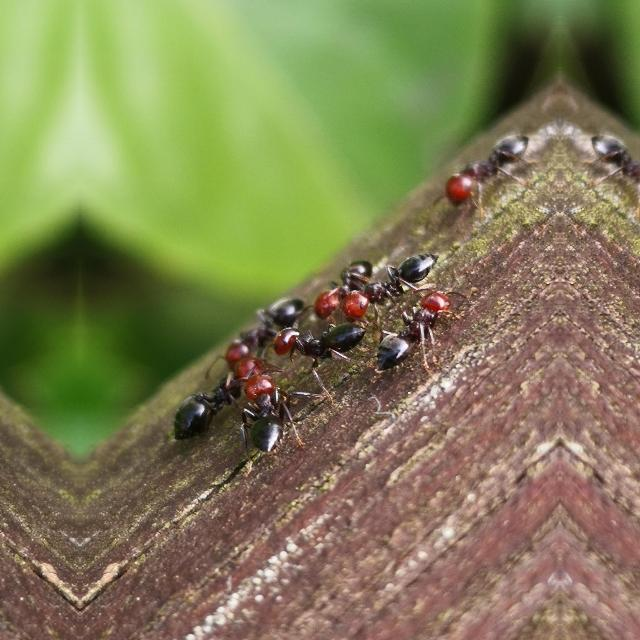Crematogaster: (442, 120, 542, 216), (166, 350, 252, 450), (379, 278, 468, 372), (238, 348, 310, 464), (226, 284, 308, 362), (340, 241, 436, 305), (578, 119, 640, 216), (281, 317, 375, 367), (311, 250, 374, 320)
